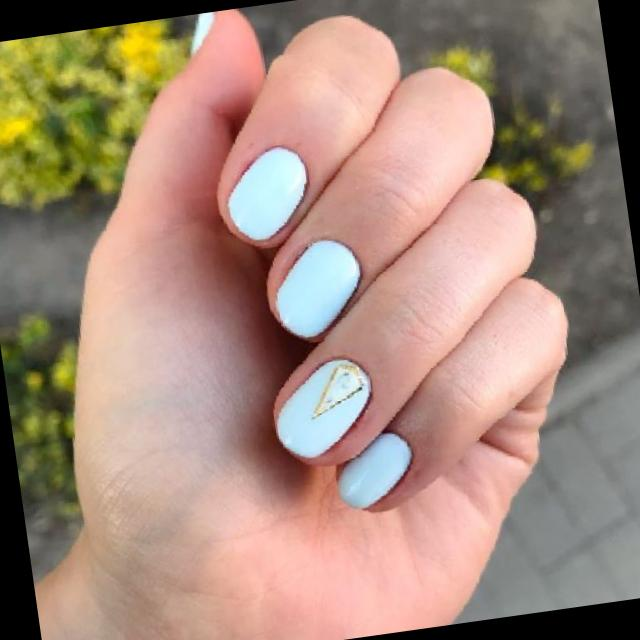Nail: (278, 358, 371, 457), (276, 240, 361, 338), (227, 146, 307, 241), (340, 434, 410, 507), (195, 12, 213, 52)
